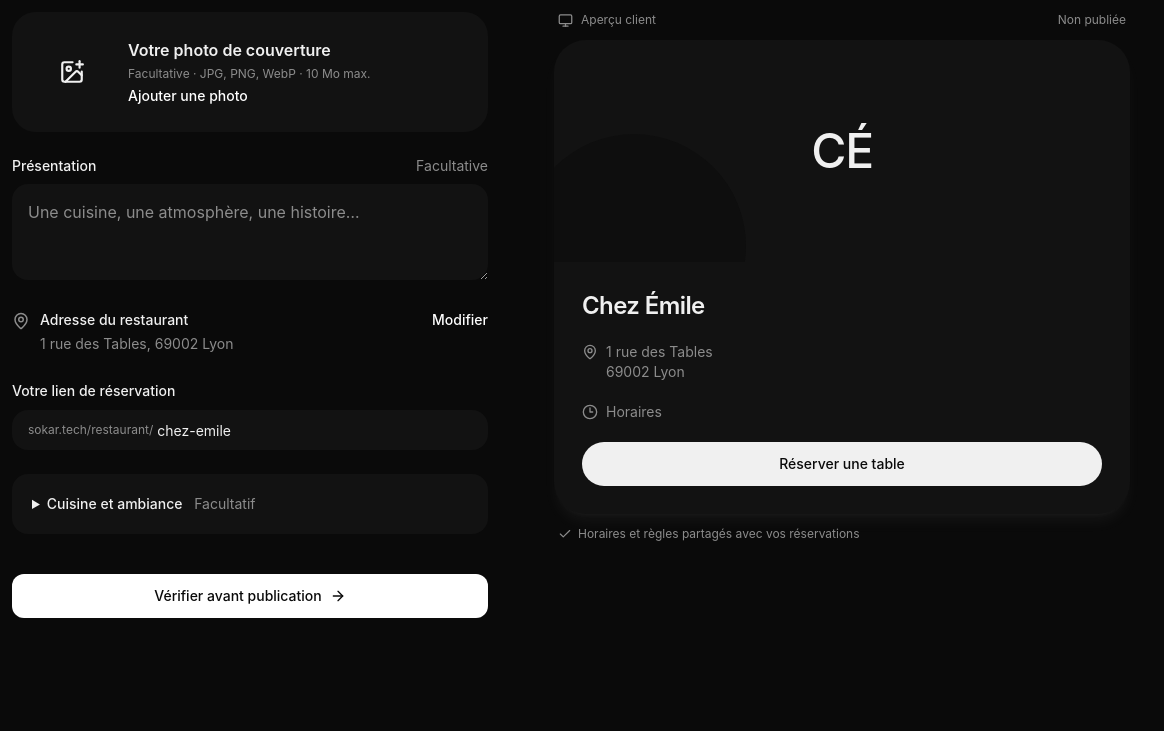
it: refuse une position introuvable et permet de la préciser
Click the button "Vérifier avant publication": (250, 596) [12, 574, 488, 618]
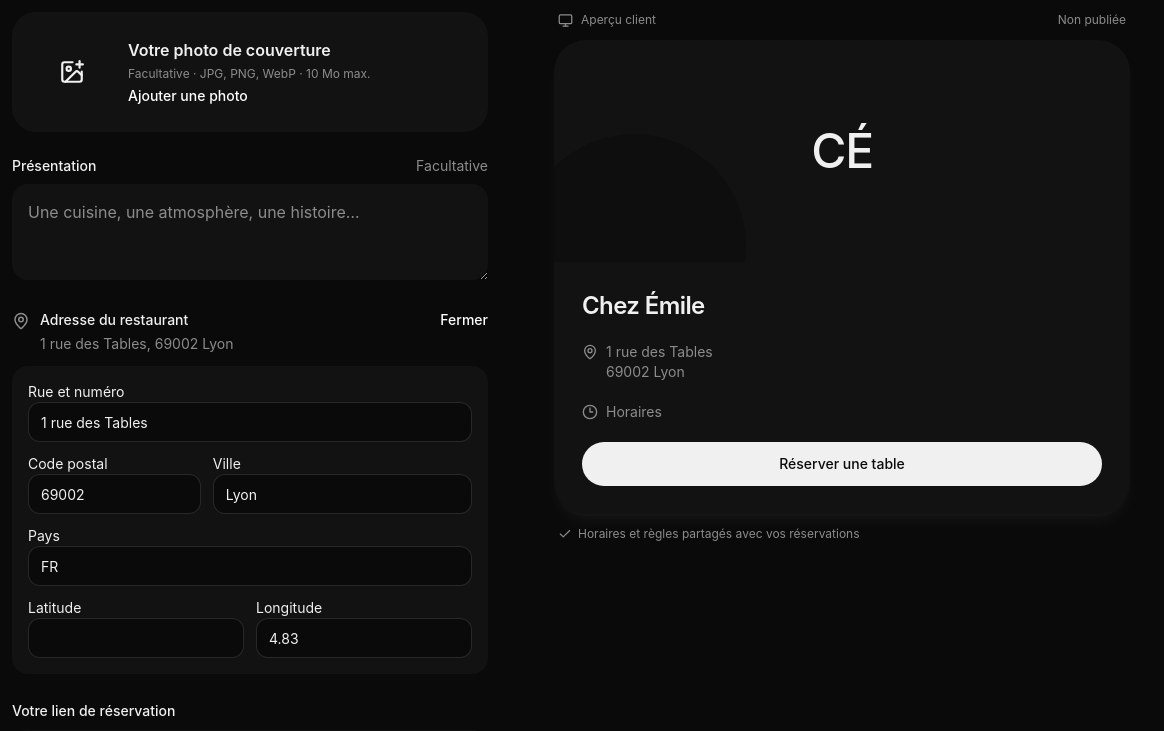
Result: the number field labelled "Latitude" is shown at [28, 618, 244, 658]
